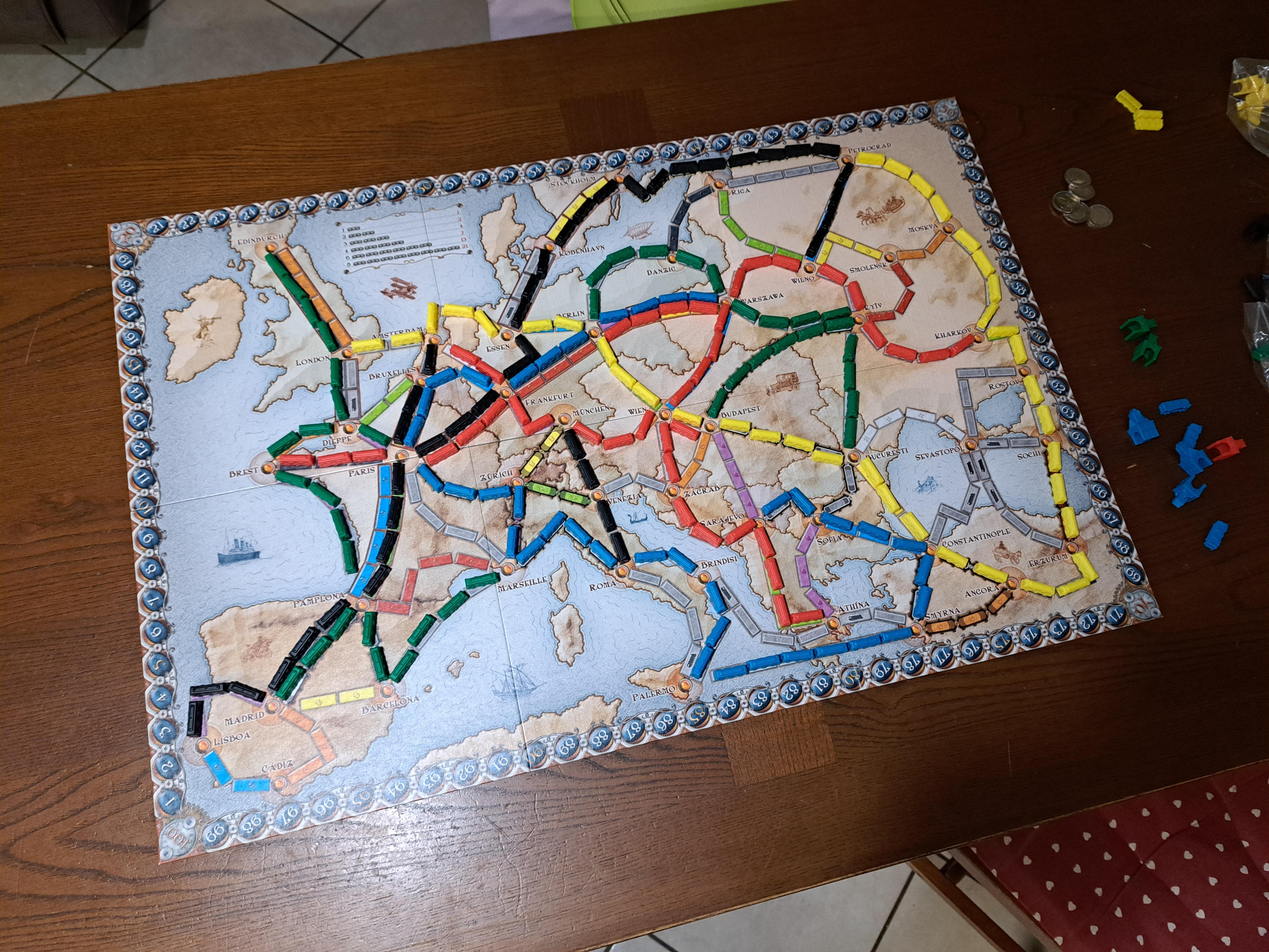corner_bl: (157, 813, 202, 863)
corner_br: (1122, 586, 1162, 624)
corner_tl: (107, 219, 146, 250)
corner_tr: (932, 97, 963, 123)
